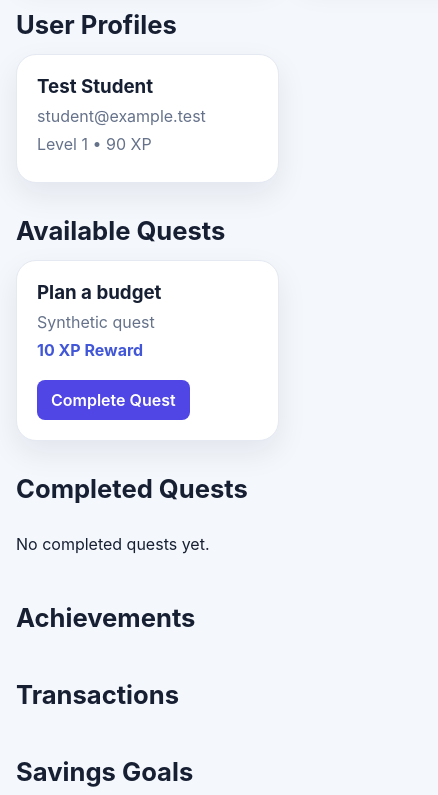
Test: Defect regression checks › WB-16 retries after an error and uses the server values, even if local XP is stale
(page scrolled)
Click the button "Complete Quest".
click(113, 400)  # box [37, 380, 190, 420]
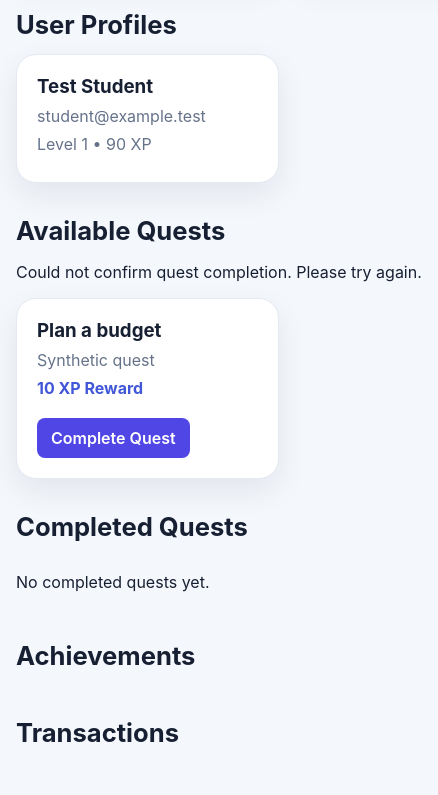
expect the message "Could not confirm quest completion. Please try again." is shown: met, box [16, 262, 422, 282]
Click the button "Complete Quest".
click(113, 438)  # box [37, 418, 190, 458]
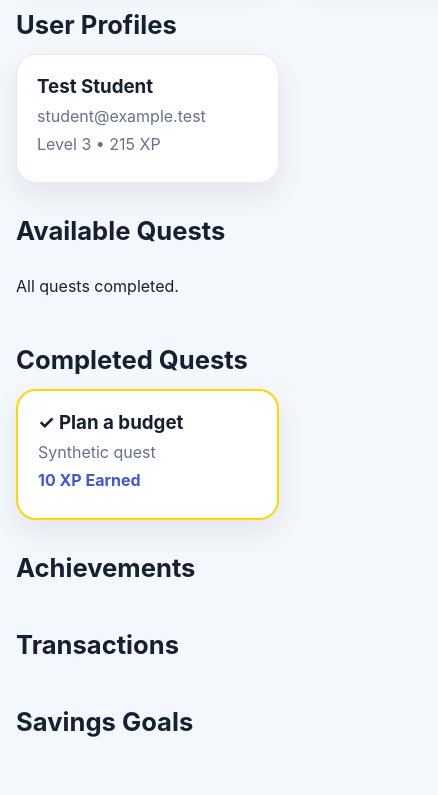
expect the text "Level 3 • 215 XP" is shown: met, box [37, 134, 161, 154]
expect the message "Could not confirm quest completion. Please try again." is gone: met
